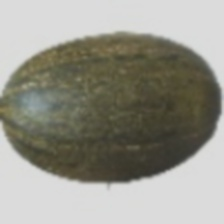honeydew: (26, 37, 224, 203)
